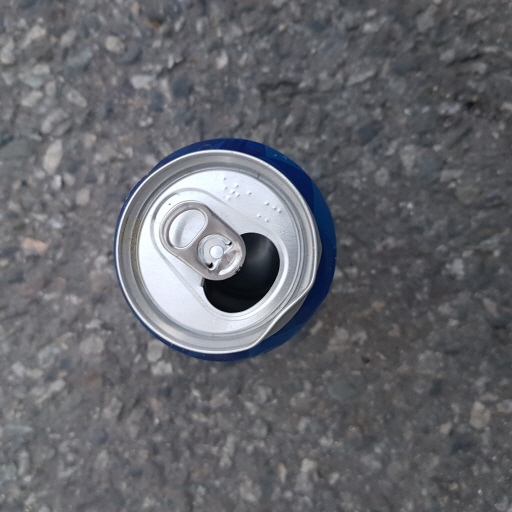Metal_0: (113, 136, 339, 364)
